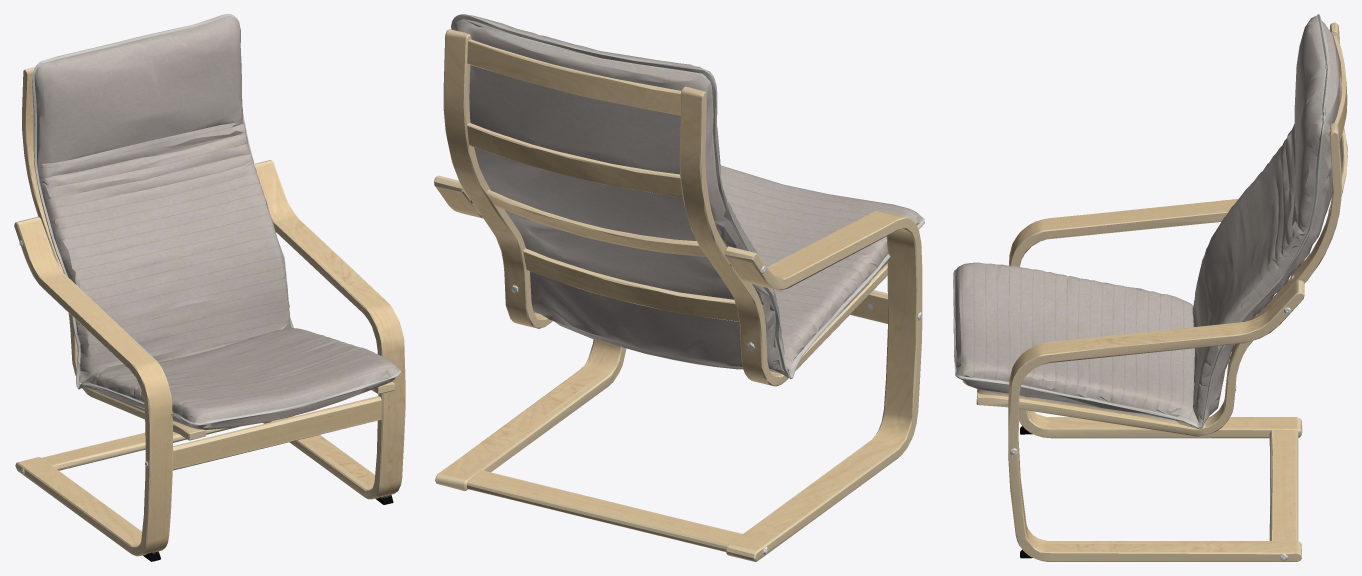
Rendered from armchair-16.glb.
The picture shows the model from 3 angles, left to right: view 1: azimuth 30°, elevation 25°; view 2: azimuth 150°, elevation 25°; view 3: azimuth 270°, elevation 25°; orthographic projection. The views are drawn at different scales.
Visible parts, largest first — view 1: ProcessedMeshNode; view 2: ProcessedMeshNode; view 3: ProcessedMeshNode.
Part boxes in pixels (x1=…): ProcessedMeshNode: x1=14, y1=14, x2=405, y2=561; ProcessedMeshNode: x1=434, y1=14, x2=924, y2=561; ProcessedMeshNode: x1=953, y1=14, x2=1347, y2=561.
Size of the model in its own units: 0.688 by 1 by 0.8342.
1 material, 1 textured.
